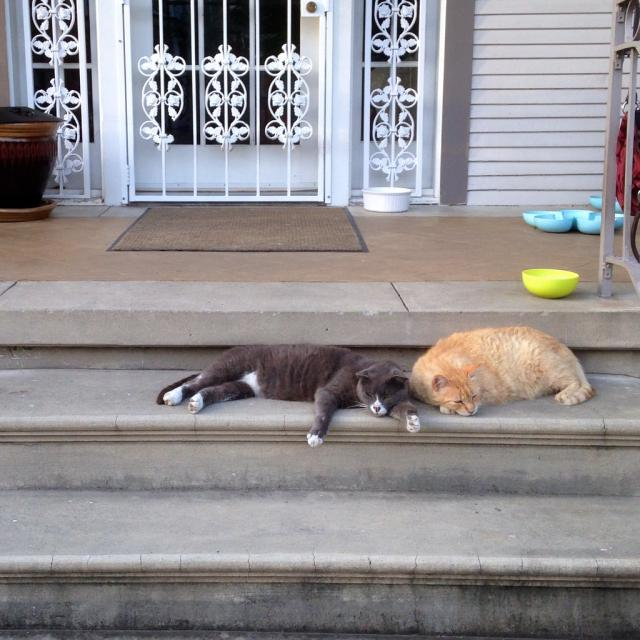Cat: (155, 343, 422, 446), (409, 323, 592, 415)
